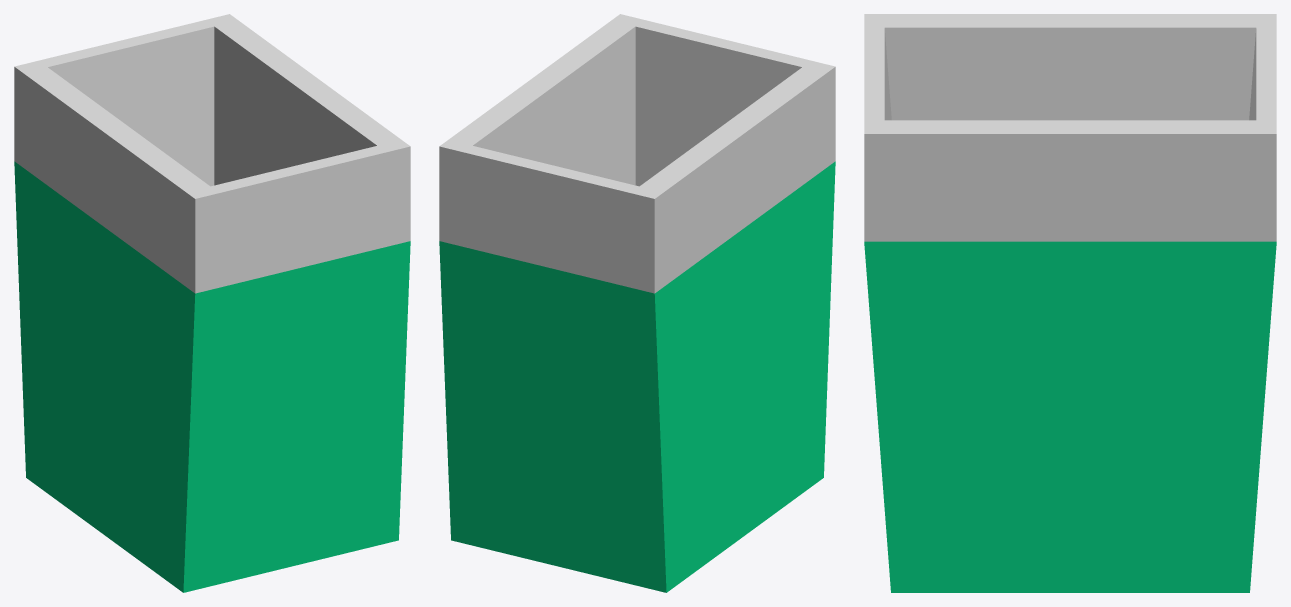
Rendered from TrashCan.fbx.
3 renders of one model, left to right at view 1: azimuth 30°, elevation 25°; view 2: azimuth 150°, elevation 25°; view 3: azimuth 270°, elevation 25°, orthographic. The views are drawn at different scales.
Parts seen in each view (by area): view 1: Cube; view 2: Cube; view 3: Cube.
Part boxes in pixels (<box>): Cube: <box>14,14,410,592</box>; Cube: <box>439,14,835,592</box>; Cube: <box>864,14,1276,592</box>.
Size of the model in its own units: 112 by 200 by 163.
